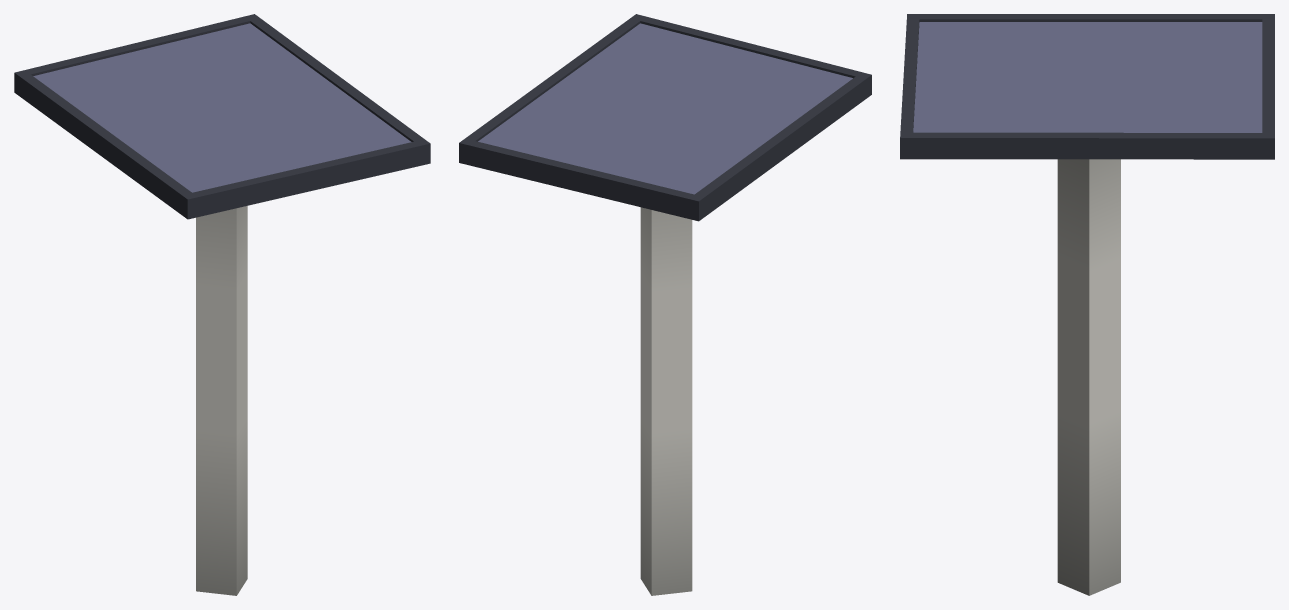
The model's file is Dropping Platform 2.fbx.
The picture shows the model from 3 angles, left to right: view 1: azimuth 30°, elevation 25°; view 2: azimuth 150°, elevation 25°; view 3: azimuth 270°, elevation 25°; orthographic projection. The views are drawn at different scales.
Parts seen in each view (by area): view 1: Rising Platform; view 2: Rising Platform; view 3: Rising Platform.
Part boxes in pixels (left/top/right/bottom): Rising Platform: left=14, top=14, right=430, bottom=595; Rising Platform: left=459, top=14, right=871, bottom=595; Rising Platform: left=900, top=14, right=1274, bottom=595.
Bounding box in the file's own units: 2.35 × 4.46 × 2.99.
